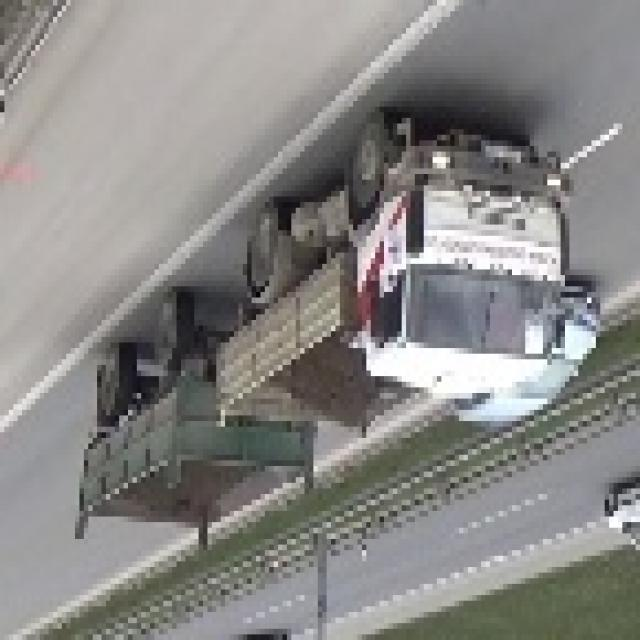truck: (79, 112, 574, 567)
